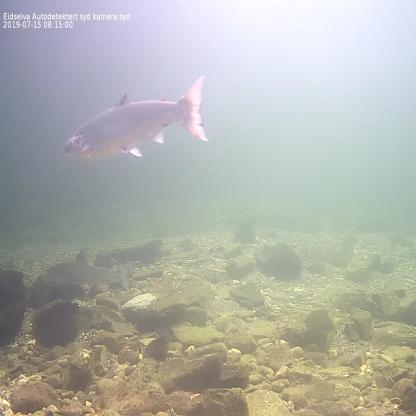salmon: (58, 72, 210, 161), (42, 252, 134, 294)
